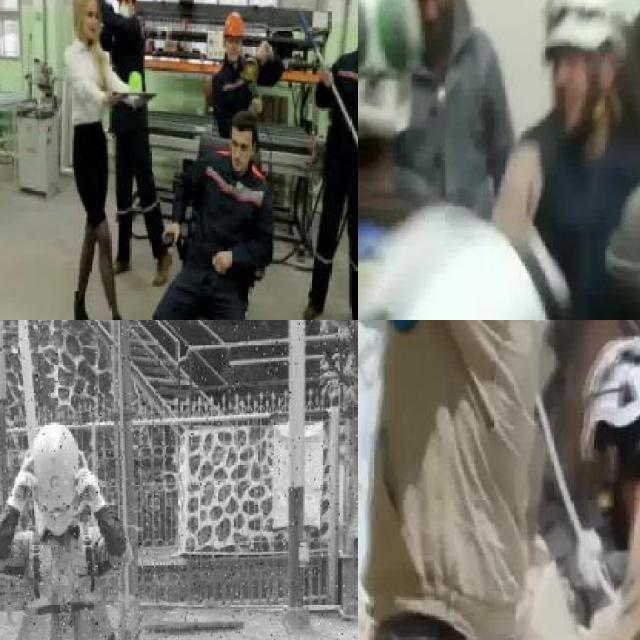apron: (4, 444, 38, 518), (73, 445, 107, 518)
